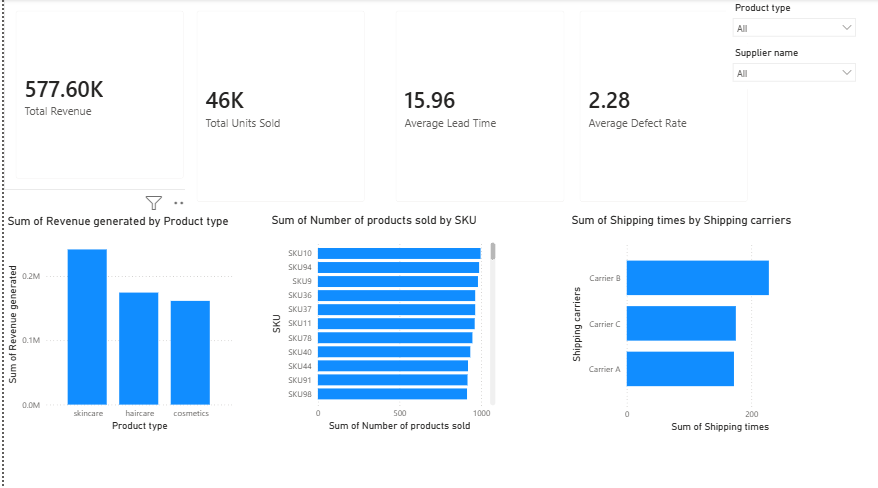

What the dashboard file says about the page in this screenshot:
{"tool":"powerbi","page":{"name":"Operations Overview","canvas":[1280,720],"ordinal":0},"visuals":[{"type":"cardVisual","fields":{"Data":["SupplyChain.Total Revenue"]},"box":[0,0,280,280],"z":0},{"type":"cardVisual","fields":{"Data":["SupplyChain.Average Defect Rate"]},"box":[824.8,0,280.5,314.1],"z":1000},{"type":"cardVisual","fields":{"Data":["SupplyChain.Total Units Sold"]},"box":[265.4,0,280.5,314.1],"z":2000},{"type":"cardVisual","fields":{"Data":["SupplyChain.Average Lead Time"]},"box":[556,0,281,314],"z":3000},{"type":"clusteredColumnChart","fields":{"Category":["SupplyChain.Product type"],"Y":["Sum(SupplyChain.Revenue generated)"]},"box":[0,314.6,339.5,322],"z":4000},{"type":"clusteredBarChart","fields":{"Category":["SupplyChain.SKU"],"Y":["Sum(SupplyChain.Number of products sold)"]},"box":[386.3,313.2,338,323.4],"z":5000},{"type":"clusteredBarChart","fields":{"Category":["SupplyChain.Shipping carriers"],"Y":["Sum(SupplyChain.Shipping times)"]},"box":[825.4,313.2,374.6,324.9],"z":6000},{"type":"slicer","fields":{"Values":["SupplyChain.Product type"]},"box":[1056.7,0,200,65.4],"z":7000},{"type":"slicer","fields":{"Values":["SupplyChain.Supplier name"]},"box":[1056.7,65.4,200,66.3],"z":8000}]}

Visuals, with their boxes in screenshot pixels (x1, y1, x2, y2), scaled from the page's 1280x720 canvas onto the 878x488 screenshot:
cardVisual - SupplyChain.Total Revenue: <region>0, 0, 192, 190</region>
cardVisual - SupplyChain.Average Defect Rate: <region>566, 0, 758, 213</region>
cardVisual - SupplyChain.Total Units Sold: <region>182, 0, 374, 213</region>
cardVisual - SupplyChain.Average Lead Time: <region>381, 0, 574, 213</region>
clusteredColumnChart - SupplyChain.Product type x Sum(SupplyChain.Revenue generated): <region>0, 213, 233, 431</region>
clusteredBarChart - SupplyChain.SKU x Sum(SupplyChain.Number of products sold): <region>265, 212, 497, 431</region>
clusteredBarChart - SupplyChain.Shipping carriers x Sum(SupplyChain.Shipping times): <region>566, 212, 823, 432</region>
slicer - SupplyChain.Product type: <region>725, 0, 862, 44</region>
slicer - SupplyChain.Supplier name: <region>725, 44, 862, 89</region>
